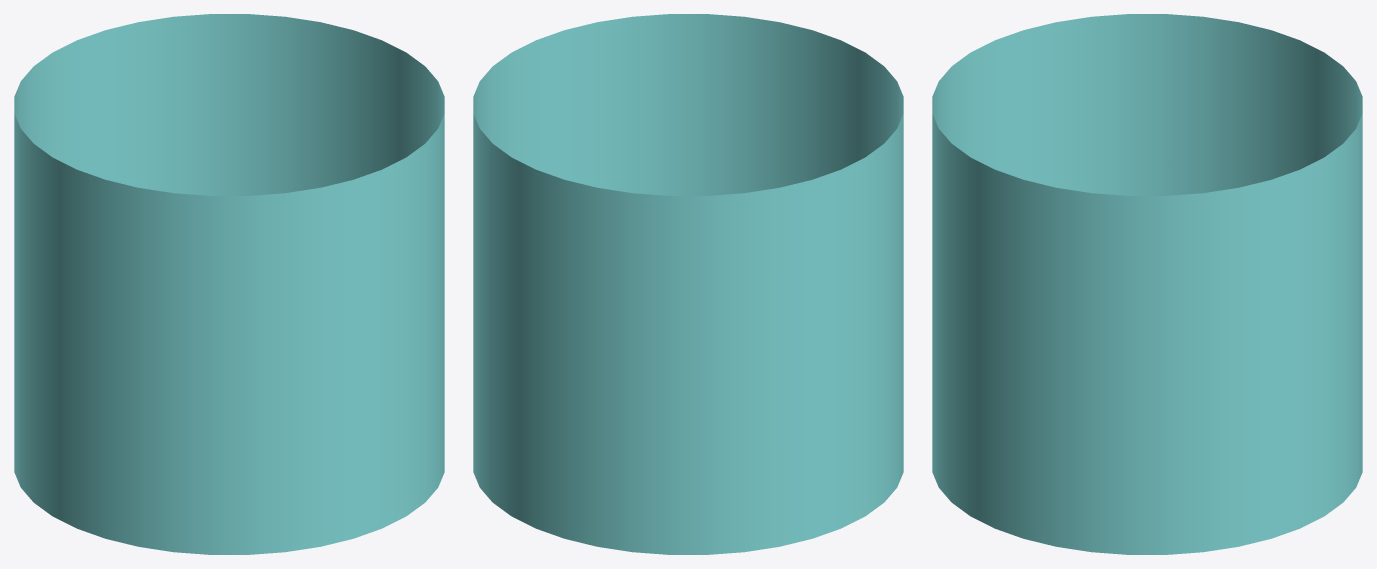
Rendered from original-12.obj.
The picture shows the model from 3 angles, left to right: view 1: azimuth 30°, elevation 25°; view 2: azimuth 150°, elevation 25°; view 3: azimuth 270°, elevation 25°; orthographic projection.
Visible parts, largest first — view 1: #ID53; view 2: #ID53; view 3: #ID53.
Boxes of the visible parts, x1=… form: #ID53: x1=14, y1=14, x2=444, y2=554; #ID53: x1=473, y1=14, x2=903, y2=554; #ID53: x1=932, y1=14, x2=1362, y2=554.
Size of the model in its own units: 0.0463 by 0.0426 by 0.0463.
